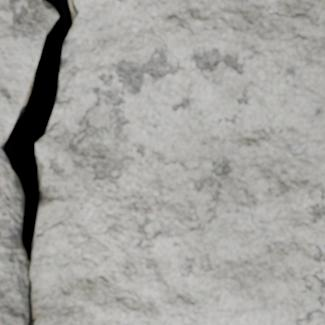broken_brick: (30, 0, 324, 324), (0, 0, 56, 145), (0, 151, 27, 324)
crack: (0, 0, 79, 324)
